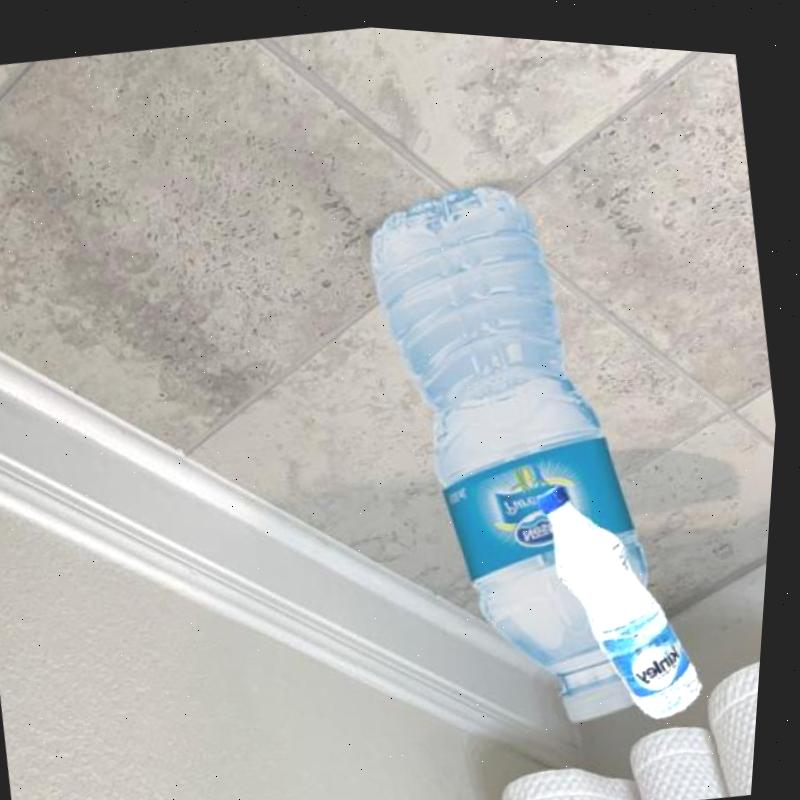botella: (334, 156, 696, 748), (532, 457, 734, 733)
